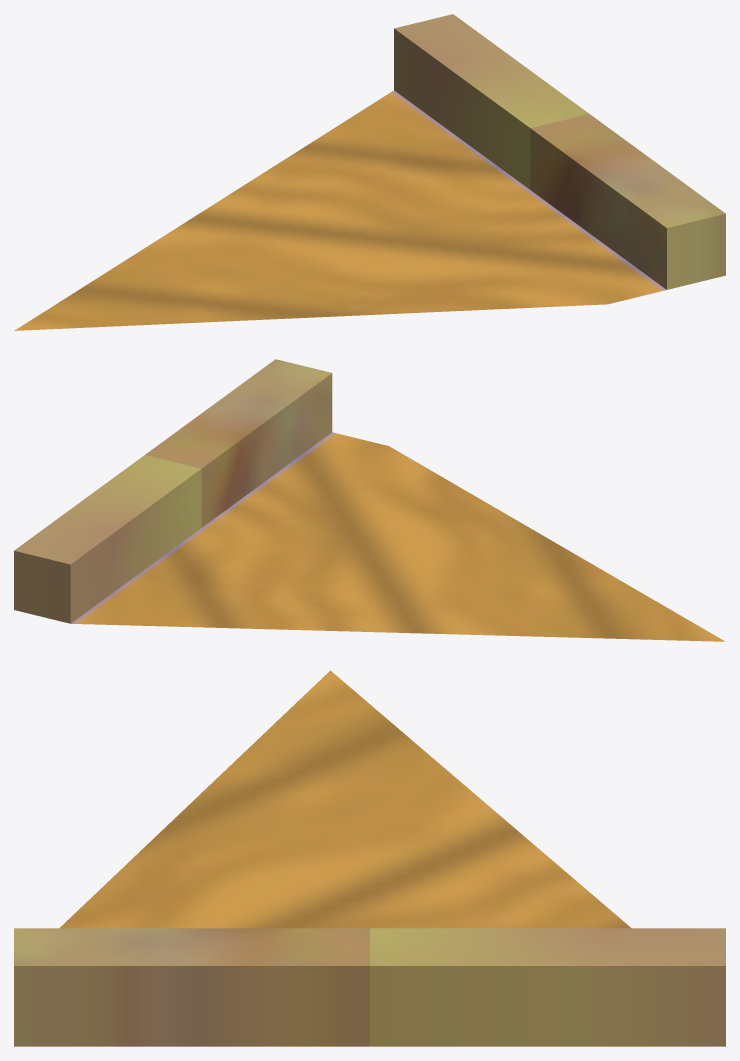
Rendered from crate_shattered_6.glb.
3 renders of one model, top to bottom at view 1: azimuth 30°, elevation 25°; view 2: azimuth 150°, elevation 25°; view 3: azimuth 270°, elevation 25°, orthographic. The views are drawn at different scales.
Visible parts, largest first — view 1: BoltCrateSplinter6; view 2: BoltCrateSplinter6; view 3: BoltCrateSplinter6.
Boxes of the visible parts, box(x1,y1,x2,y2) form: BoltCrateSplinter6: box(14, 14, 725, 330); BoltCrateSplinter6: box(14, 359, 725, 641); BoltCrateSplinter6: box(14, 670, 725, 1046).
Bounding box in the file's own units: 1 × 0.1 × 0.8.
Materials: 1 (1 with a texture image).
